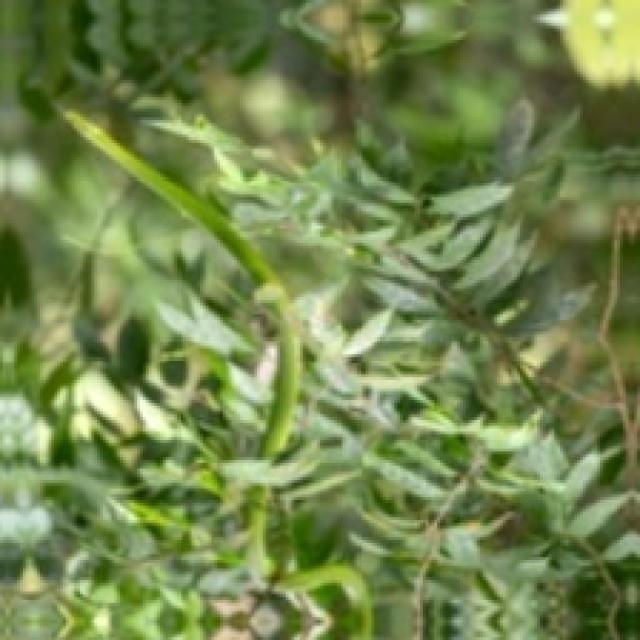red-tailed green ratsnake: (66, 111, 301, 461), (280, 564, 372, 639), (246, 485, 270, 588)
